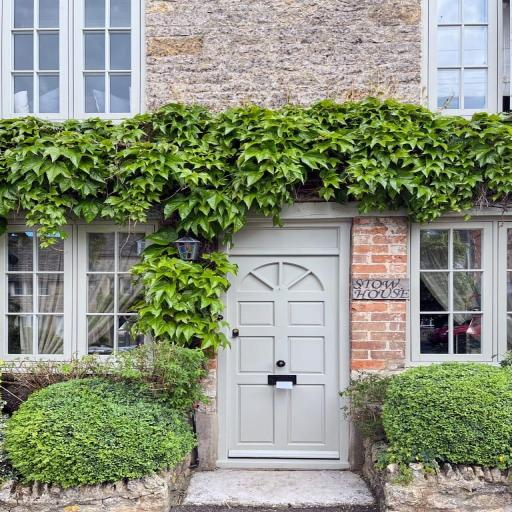door: (206, 230, 358, 484)
